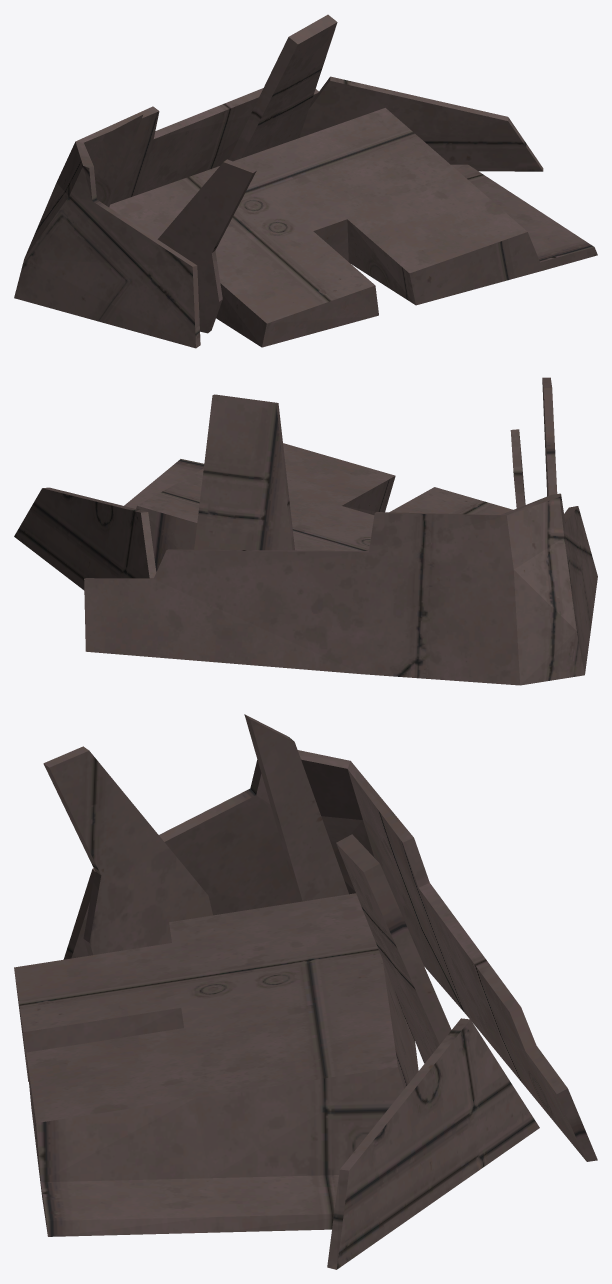
Rendered from Cluster05.fbx.
3 views of the same model, one above another, from view 1: azimuth 30°, elevation 25°; view 2: azimuth 150°, elevation 25°; view 3: azimuth 270°, elevation 25° (orthographic). The views are drawn at different scales.
Parts seen in each view (by area): view 1: SM_ENV_STRUCT_ScrapYard_Debris_Cluster_05.mo; view 2: SM_ENV_STRUCT_ScrapYard_Debris_Cluster_05.mo; view 3: SM_ENV_STRUCT_ScrapYard_Debris_Cluster_05.mo.
Part boxes in pixels (box(x1,y1,x2,y2)): SM_ENV_STRUCT_ScrapYard_Debris_Cluster_05.mo: box(14, 14, 597, 348); SM_ENV_STRUCT_ScrapYard_Debris_Cluster_05.mo: box(14, 377, 597, 685); SM_ENV_STRUCT_ScrapYard_Debris_Cluster_05.mo: box(14, 714, 597, 1269).
Size of the model in its own units: 695 by 240 by 472.
1 material, 1 textured.
